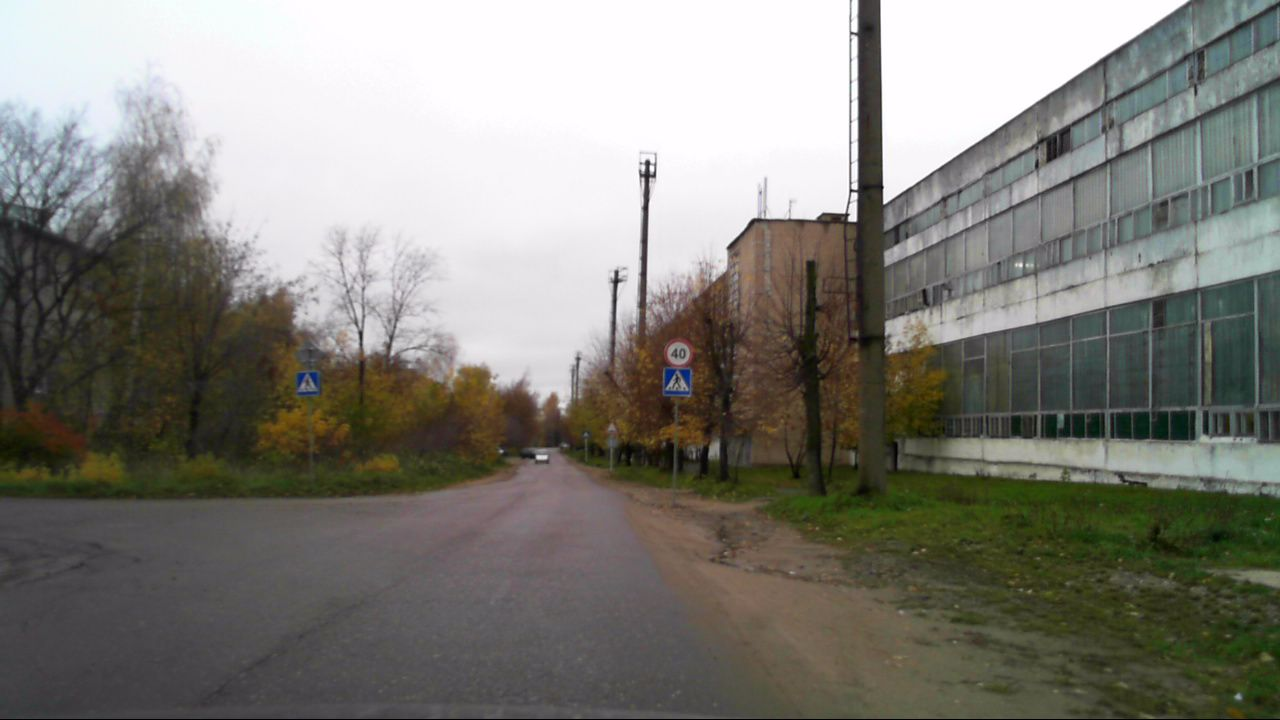speed_warning_40: (662, 337, 693, 368)
